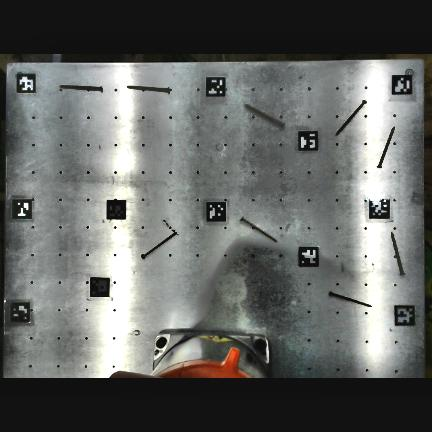golden_screw: (336, 100, 366, 134), (141, 232, 175, 259), (245, 105, 283, 128), (376, 127, 393, 168), (328, 292, 370, 307), (390, 232, 404, 276), (126, 86, 170, 93), (59, 85, 102, 91), (238, 216, 246, 222)
marker: (394, 304, 415, 325), (12, 198, 32, 219), (370, 198, 390, 218), (299, 246, 319, 266), (298, 130, 318, 150), (206, 75, 226, 95), (10, 300, 29, 321), (207, 201, 226, 222), (392, 75, 412, 94), (17, 73, 36, 93), (107, 200, 126, 219), (90, 278, 109, 296)
